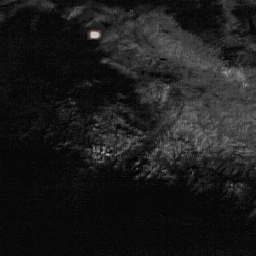Target: (89, 29, 102, 39)
